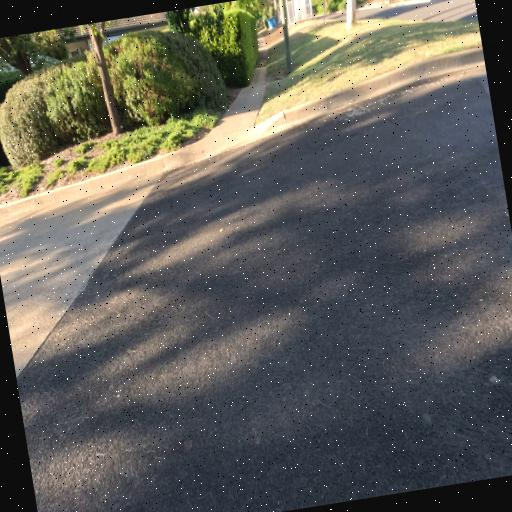kerb_cut: (193, 124, 252, 166)
